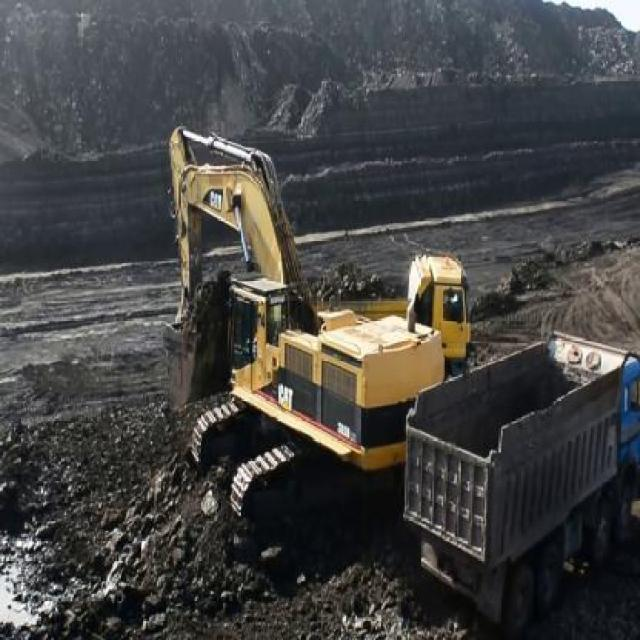dump_truck: (402, 331, 640, 623), (305, 252, 473, 371)
excavator: (162, 111, 436, 537)
